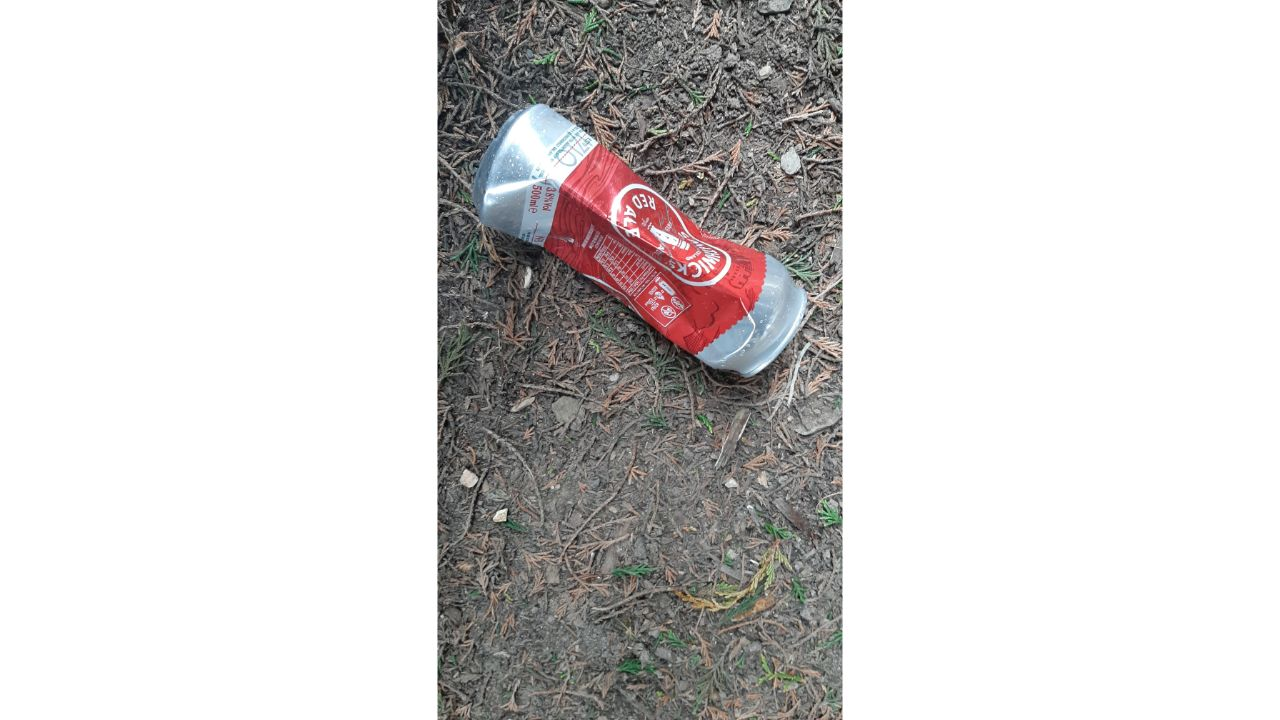Can: (471, 105, 810, 375)
